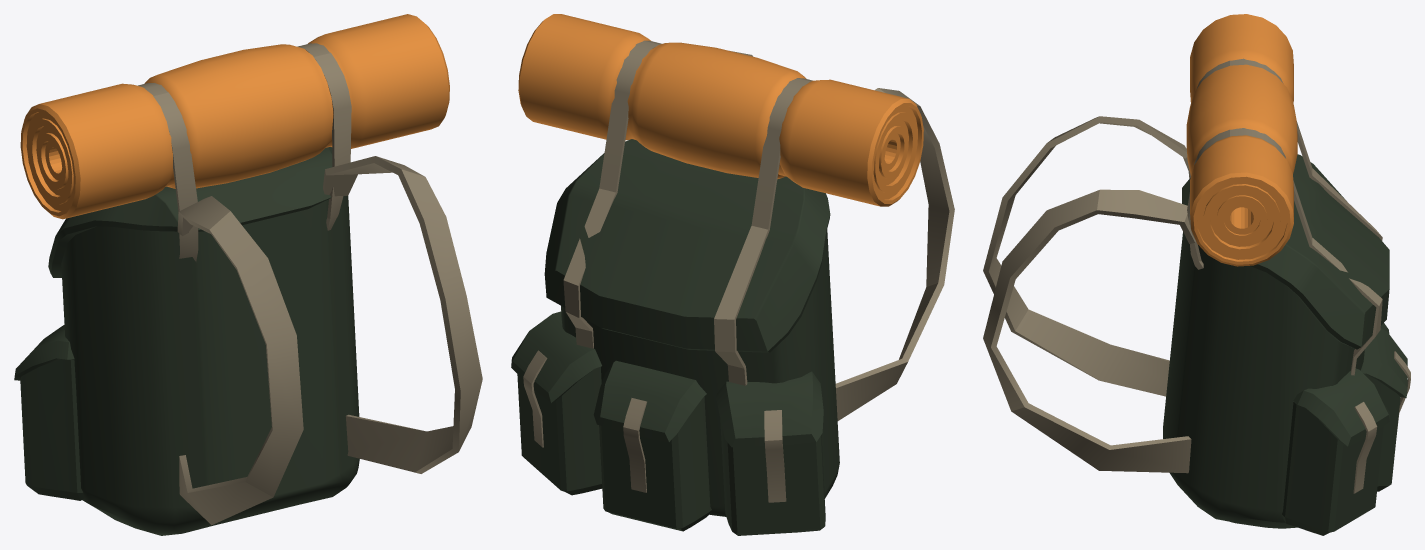
Rendered from sac.fbx.
The picture shows the model from 3 angles, left to right: view 1: azimuth 30°, elevation 25°; view 2: azimuth 150°, elevation 25°; view 3: azimuth 270°, elevation 25°; orthographic projection. The views are drawn at different scales.
Parts seen in each view (by area): view 1: pCube14; view 2: pCube14; view 3: pCube14.
Boxes of the visible parts, left/top/right/bottom form: pCube14: left=14, top=14, right=482, bottom=535; pCube14: left=511, top=14, right=954, bottom=535; pCube14: left=983, top=14, right=1410, bottom=535.
Bounding box in the file's own units: 59.94 × 69.14 × 67.31.
